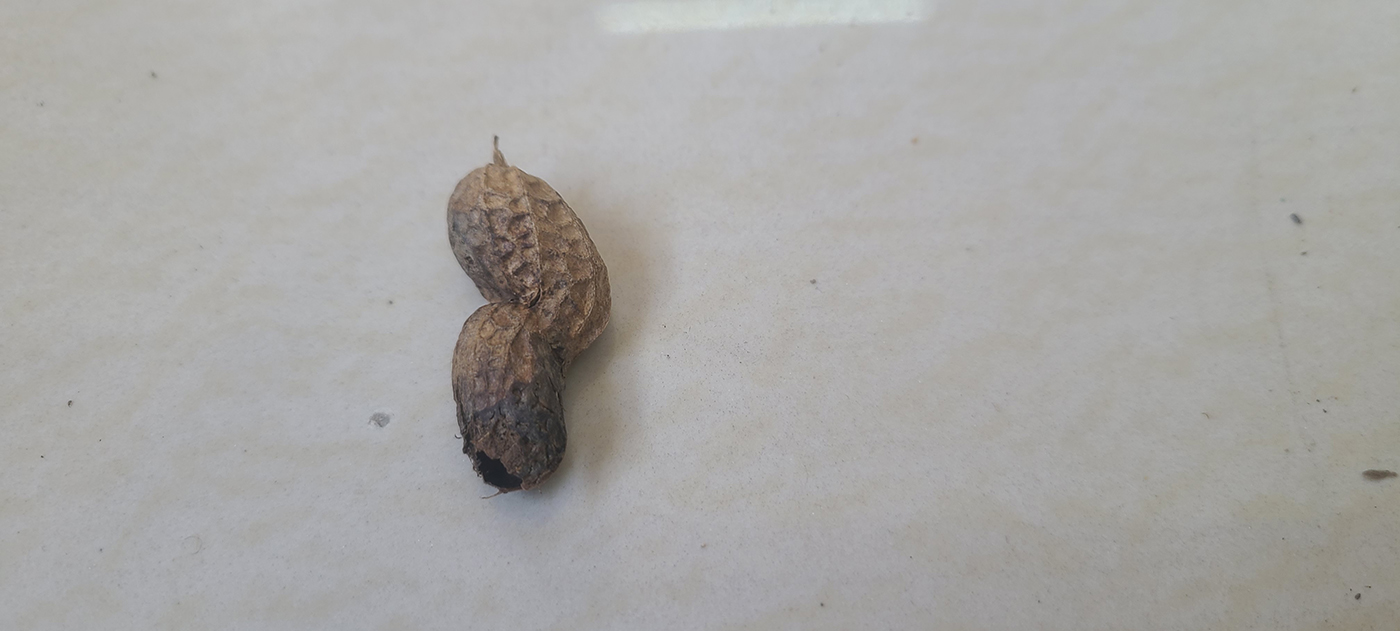l: (439, 156, 616, 492)
